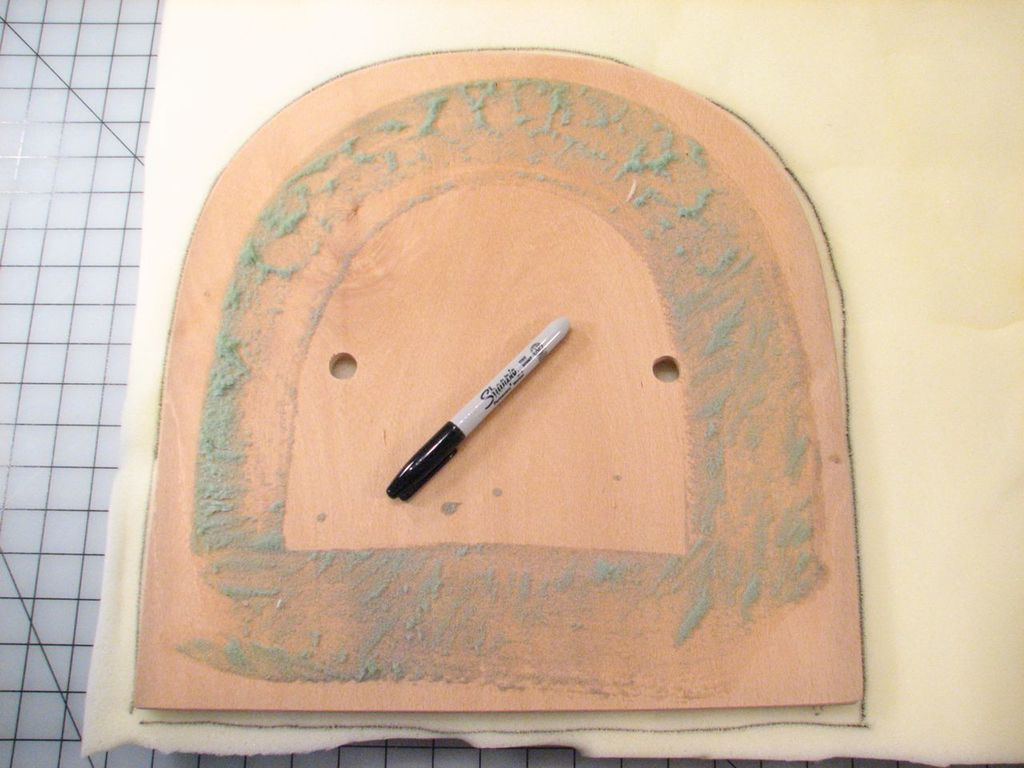Pen: (378, 299, 572, 518)
